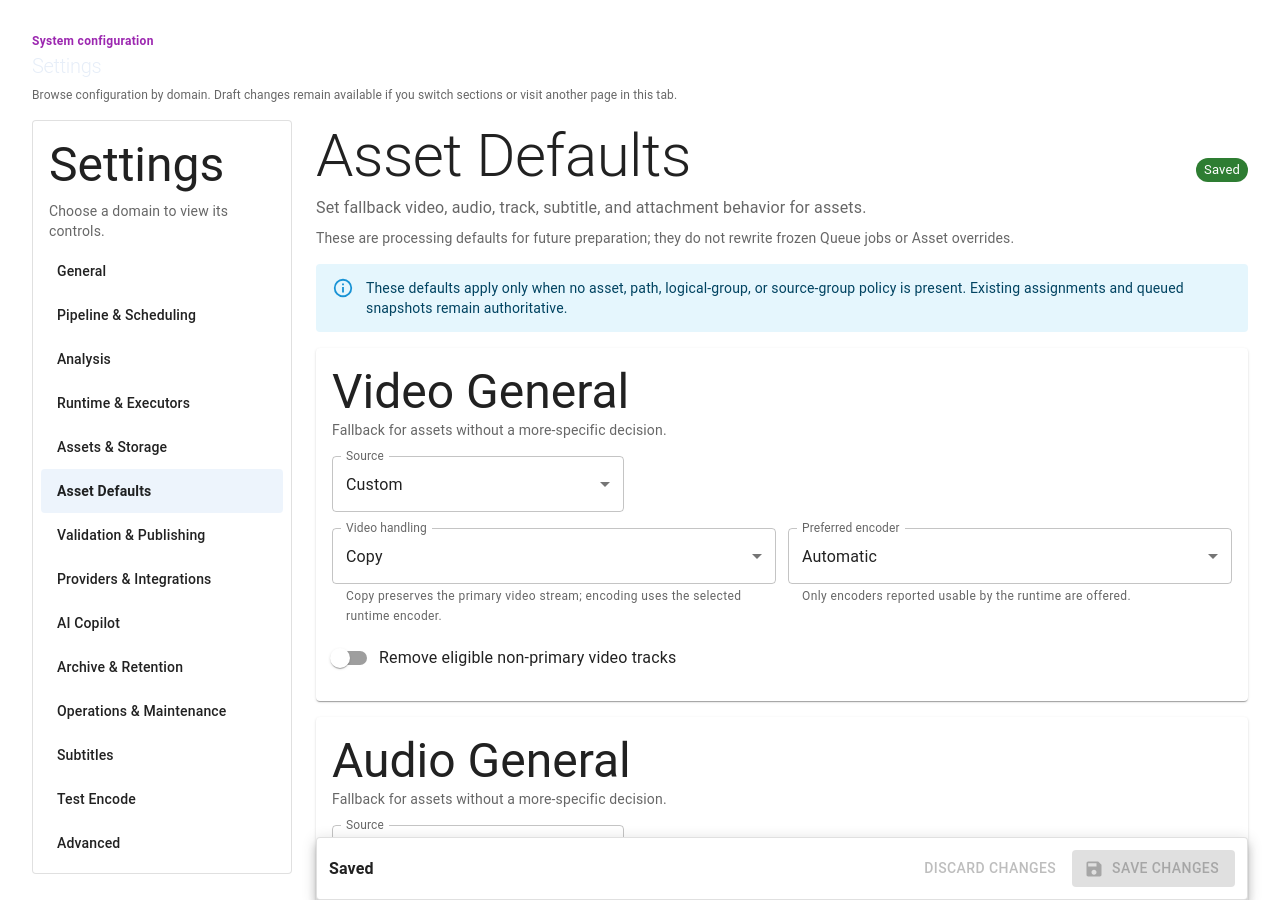
Test: Settings domain navigation and drafts › keeps Asset Defaults dirty after a failed save and lets the user discard it
Click the dropdown named "Video handling".
click(364, 556)  # box [346,547,383,566]
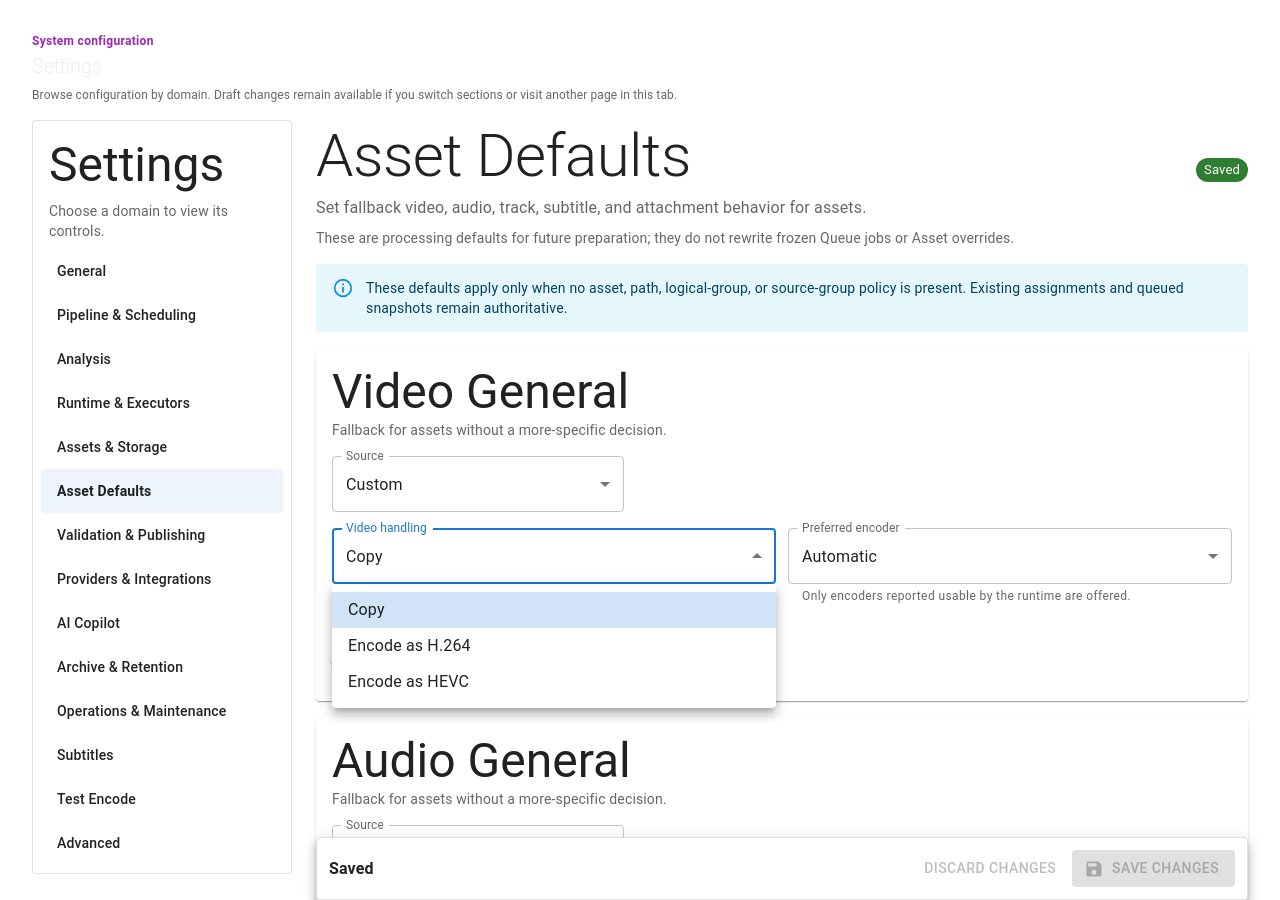
Click the option "Encode as HEVC".
click(408, 682)  # box [348,672,469,691]
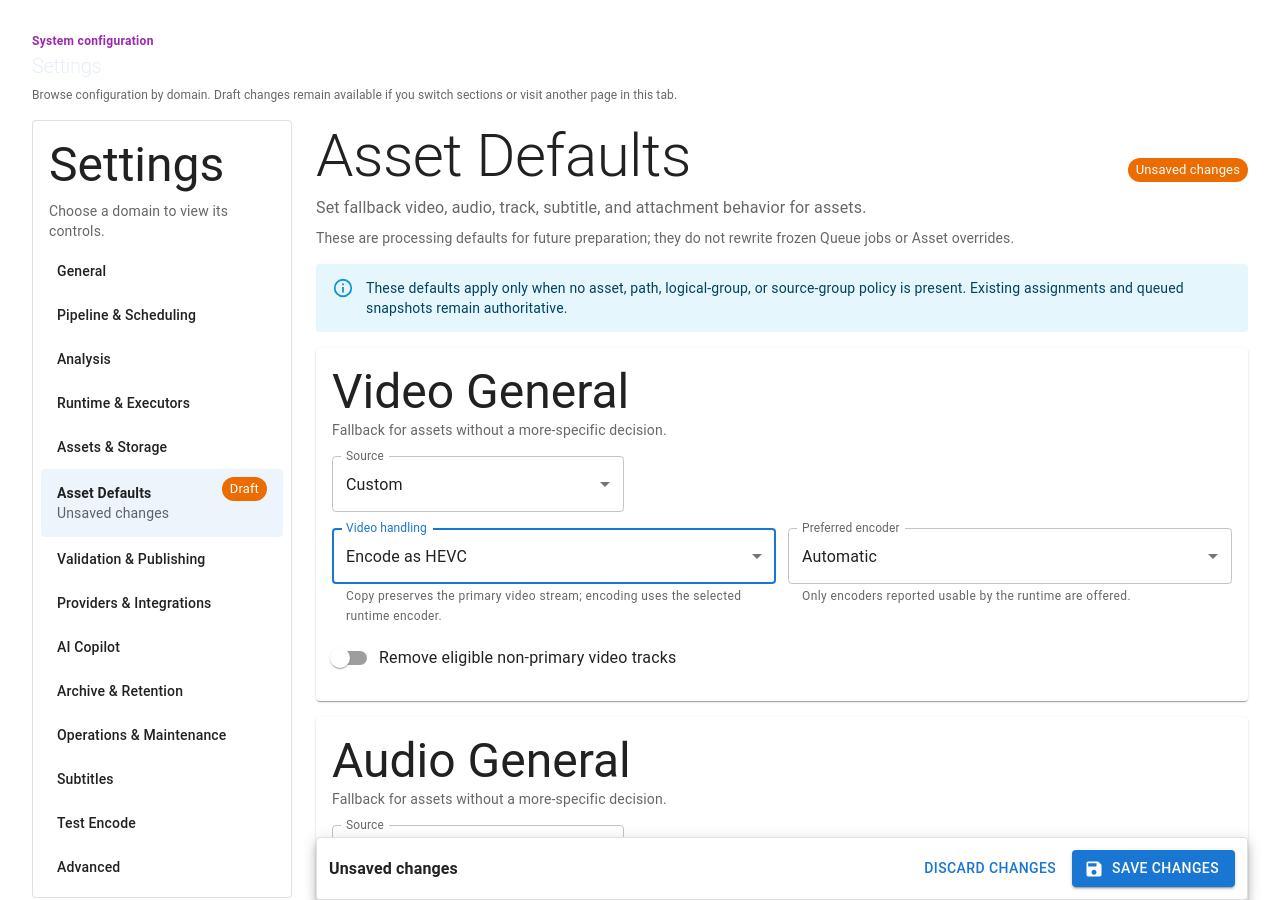
Now the message "Unsaved changes" is shown, box [329,857,458,881]
Click the button "Save changes".
click(1154, 869)  # box [1072,850,1235,887]
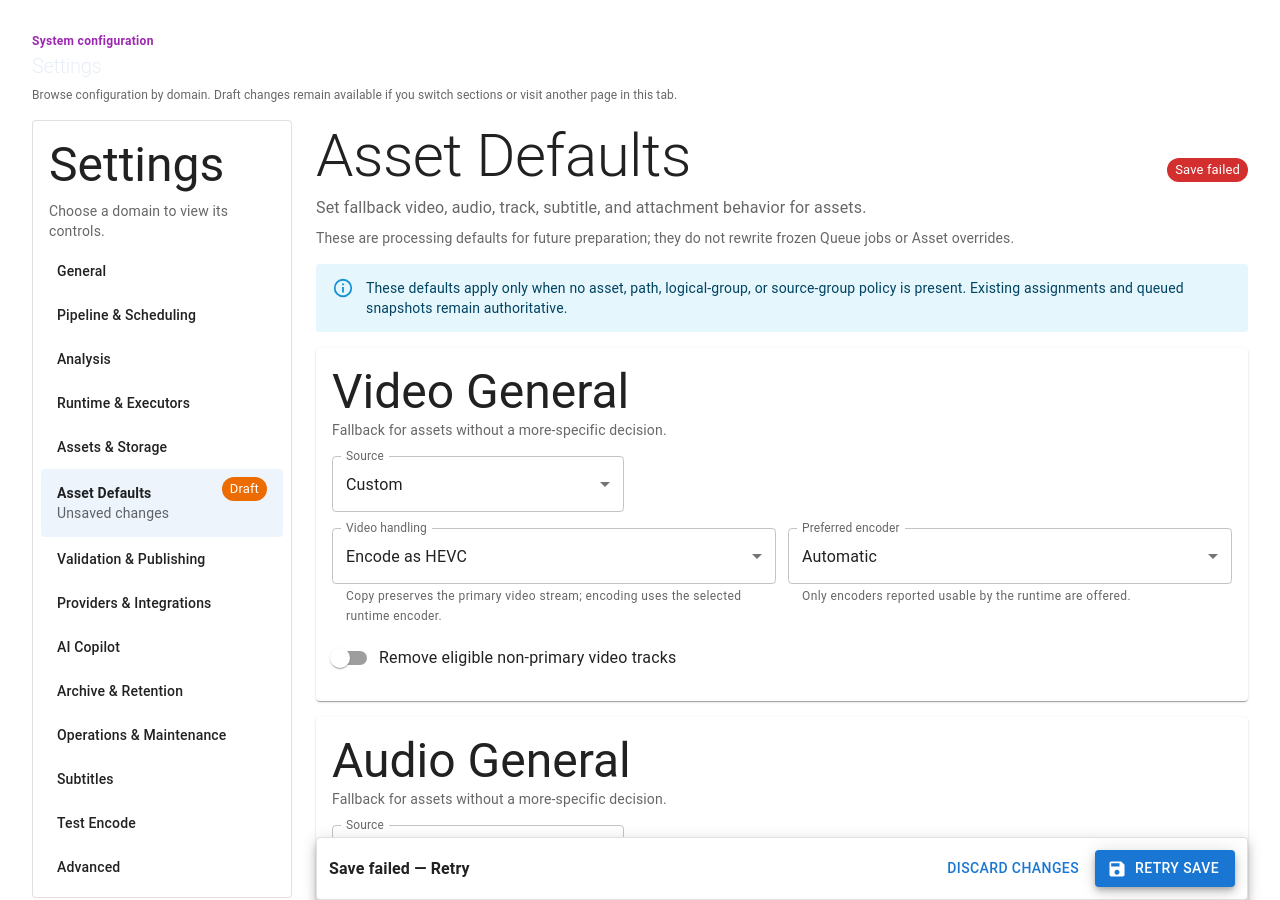
Now the dropdown named "Video handling" reads "Encode as HEVC", box [346,547,467,566]
Now the message "Save failed — Retry" is shown, box [329,857,470,881]
Click the button "Discard changes".
click(1013, 869)  # box [939,850,1087,887]
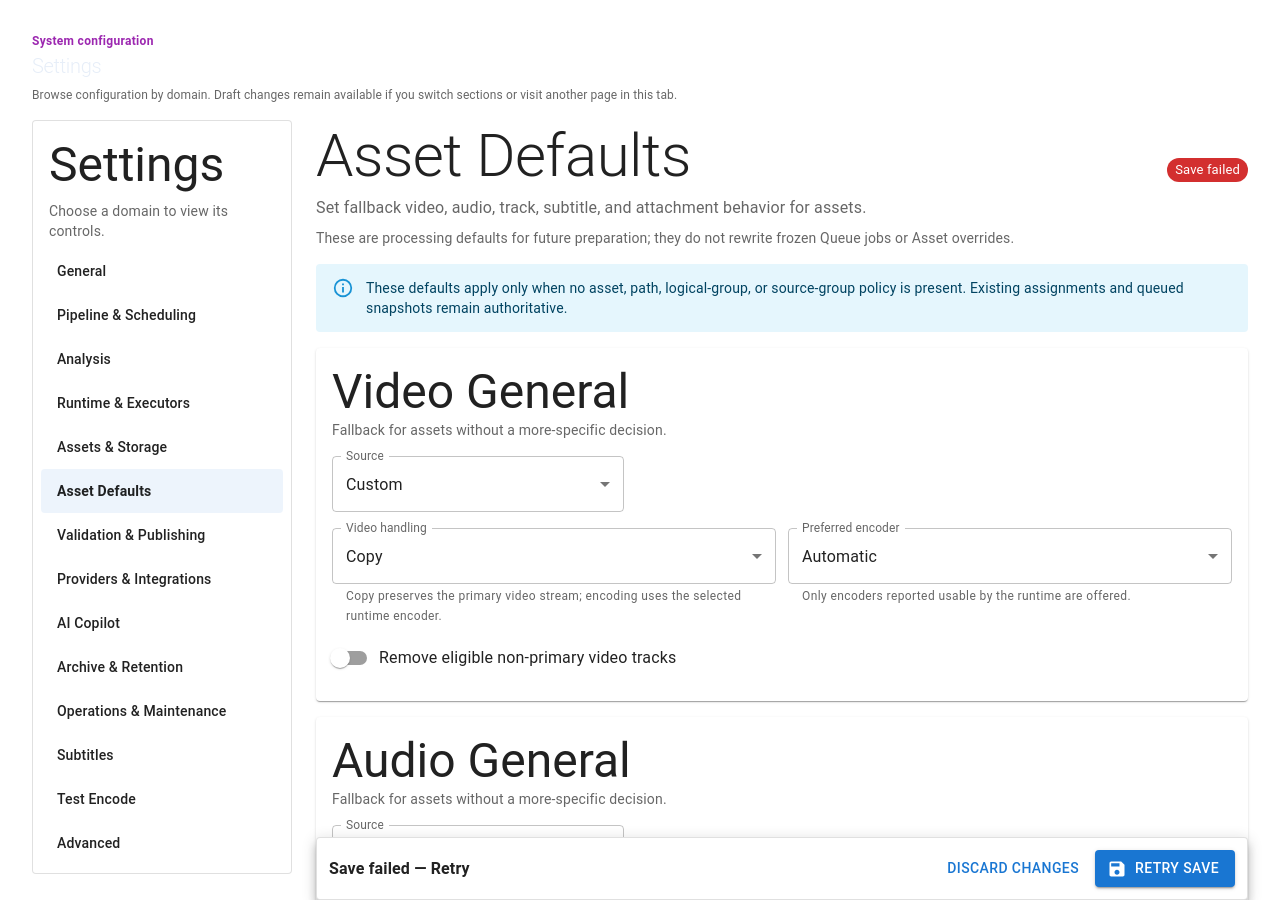
Now the dropdown named "Video handling" reads "Copy", box [346,547,383,566]
Now the text "Unsaved changes" is gone
